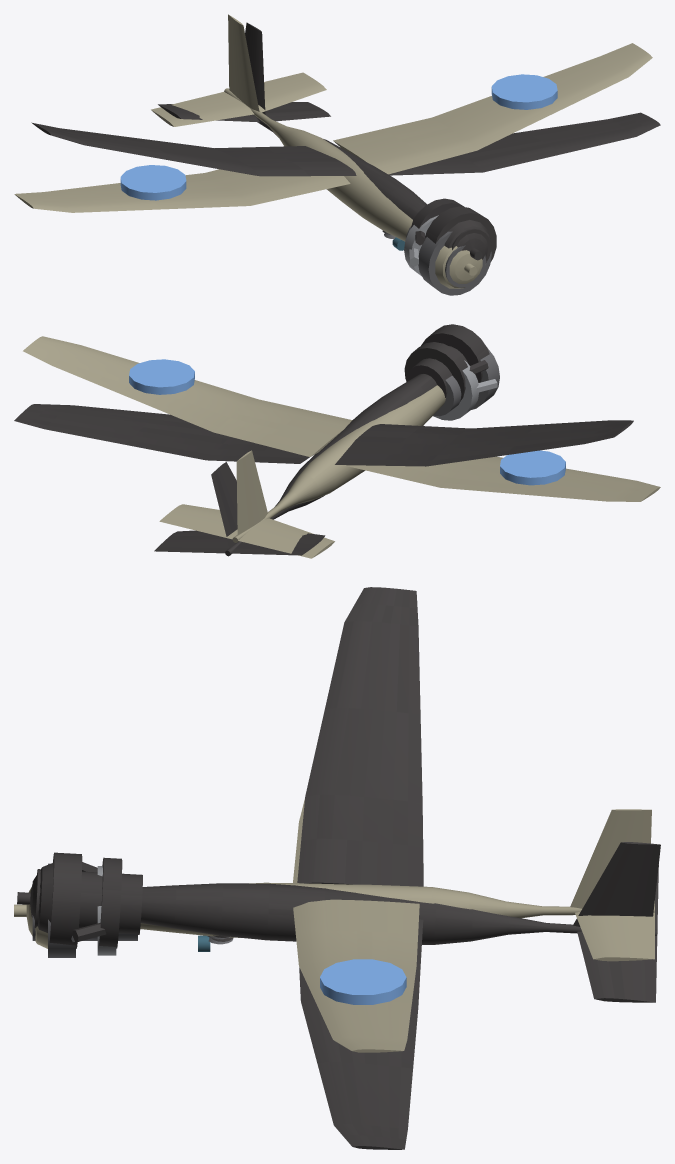
File: drone__skylark_i_lex.glb
The picture shows the model from 3 angles, top to bottom: view 1: azimuth 30°, elevation 25°; view 2: azimuth 150°, elevation 25°; view 3: azimuth 270°, elevation 25°; orthographic projection. The views are drawn at different scales.
Parts seen in each view (by area): view 1: Fuselage_Mesh, Wreck, Propeller_Mesh; view 2: Fuselage_Mesh, Wreck, Propeller_Mesh; view 3: Wreck, Fuselage_Mesh, Propeller_Mesh.
Boxes of the visible parts, x1,y1,x2,y2 form: Fuselage_Mesh: (14, 14, 652, 250); Wreck: (31, 22, 660, 262); Propeller_Mesh: (404, 215, 491, 295); Fuselage_Mesh: (23, 336, 660, 558); Wreck: (14, 324, 633, 556); Propeller_Mesh: (433, 347, 499, 420); Wreck: (17, 587, 660, 1149); Fuselage_Mesh: (140, 799, 654, 1052); Propeller_Mesh: (14, 863, 137, 957).
Size of what is drawn, in the model's own units: 3.04 by 0.6574 by 2.09.
